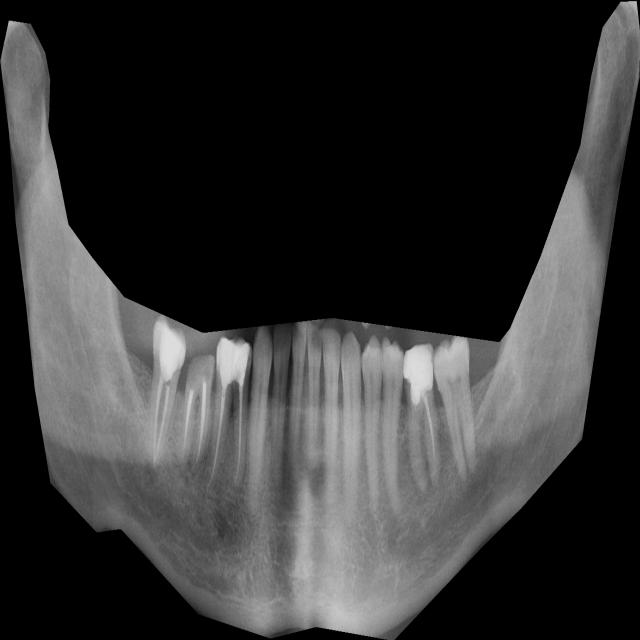mandibula: (0, 1, 640, 640)
